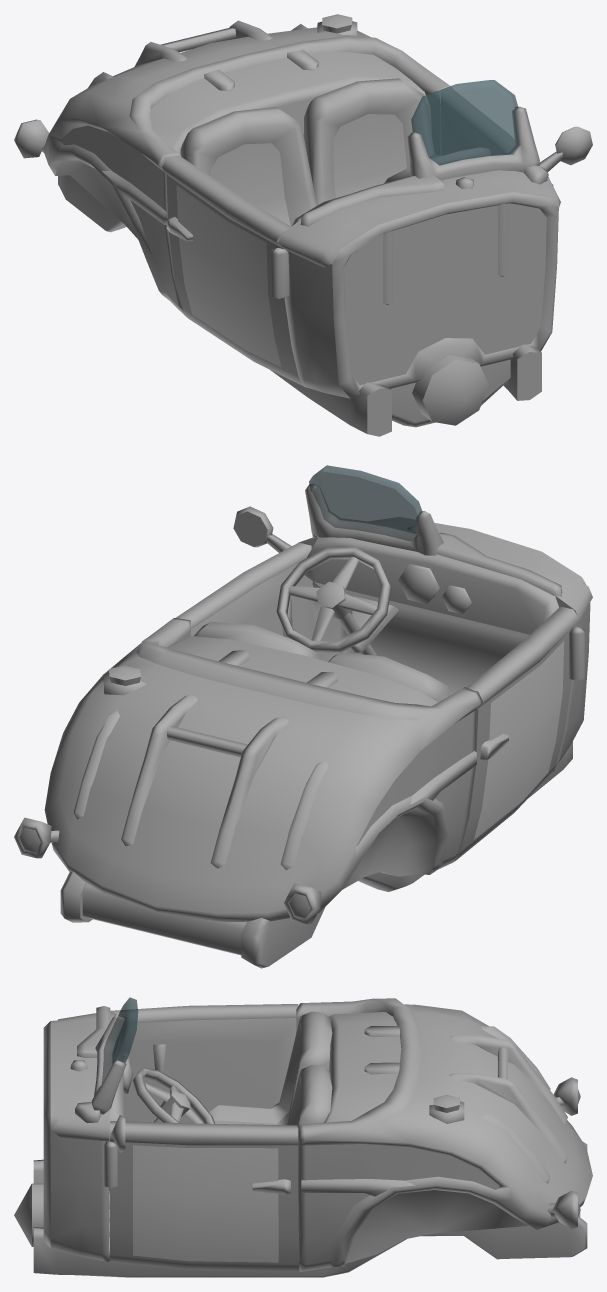
Rendered from Body_Bugster_Racer.fbx.
The picture shows the model from 3 angles, top to bottom: view 1: azimuth 30°, elevation 25°; view 2: azimuth 150°, elevation 25°; view 3: azimuth 270°, elevation 25°; orthographic projection. The views are drawn at different scales.
Visible parts, largest first — view 1: Body_Bugster_Racer_Mesh, Bugster_Door_Right_Decal_Mesh, Bugster_Softtop_Door_Right_Mesh, Body_Bugster_Racer_Window_Mesh, Bugster_Softtop_Door_Left_Mesh, Steer_Wheel_Mesh; view 2: Body_Bugster_Racer_Mesh, Bugster_Door_Right_Decal_Mesh, Bugster_Softtop_Door_Left_Mesh, Bugster_Softtop_Door_Right_Mesh, Steer_Wheel_Mesh, Body_Bugster_Racer_Window_Mesh; view 3: Body_Bugster_Racer_Mesh, Bugster_Door_Left_Decal_Mesh, Bugster_Softtop_Door_Right_Mesh, Bugster_Softtop_Door_Left_Mesh, Steer_Wheel_Mesh, Body_Bugster_Racer_Window_Mesh.
Boxes of the visible parts, <box> form: Body_Bugster_Racer_Mesh: <box>14,14,560,436</box>; Bugster_Door_Right_Decal_Mesh: <box>176,185,281,366</box>; Bugster_Softtop_Door_Right_Mesh: <box>162,156,303,386</box>; Body_Bugster_Racer_Window_Mesh: <box>411,80,520,165</box>; Bugster_Softtop_Door_Left_Mesh: <box>440,89,592,175</box>; Steer_Wheel_Mesh: <box>384,147,490,183</box>; Body_Bugster_Racer_Mesh: <box>14,484,592,968</box>; Bugster_Door_Right_Decal_Mesh: <box>474,641,564,839</box>; Bugster_Softtop_Door_Left_Mesh: <box>176,506,318,656</box>; Bugster_Softtop_Door_Right_Mesh: <box>455,606,579,860</box>; Steer_Wheel_Mesh: <box>276,547,391,655</box>; Body_Bugster_Racer_Window_Mesh: <box>309,465,422,541</box>; Body_Bugster_Racer_Mesh: <box>14,998,592,1277</box>; Bugster_Door_Left_Decal_Mesh: <box>133,1145,278,1262</box>; Bugster_Softtop_Door_Right_Mesh: <box>110,1004,298,1123</box>; Bugster_Softtop_Door_Left_Mesh: <box>110,1115,298,1271</box>; Steer_Wheel_Mesh: <box>109,1067,214,1190</box>; Body_Bugster_Racer_Window_Mesh: <box>101,997,138,1084</box>.
Bounding box in the file's own units: 172 × 144 × 282.
